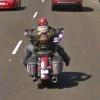Motorcycle: (21, 29, 70, 91)
